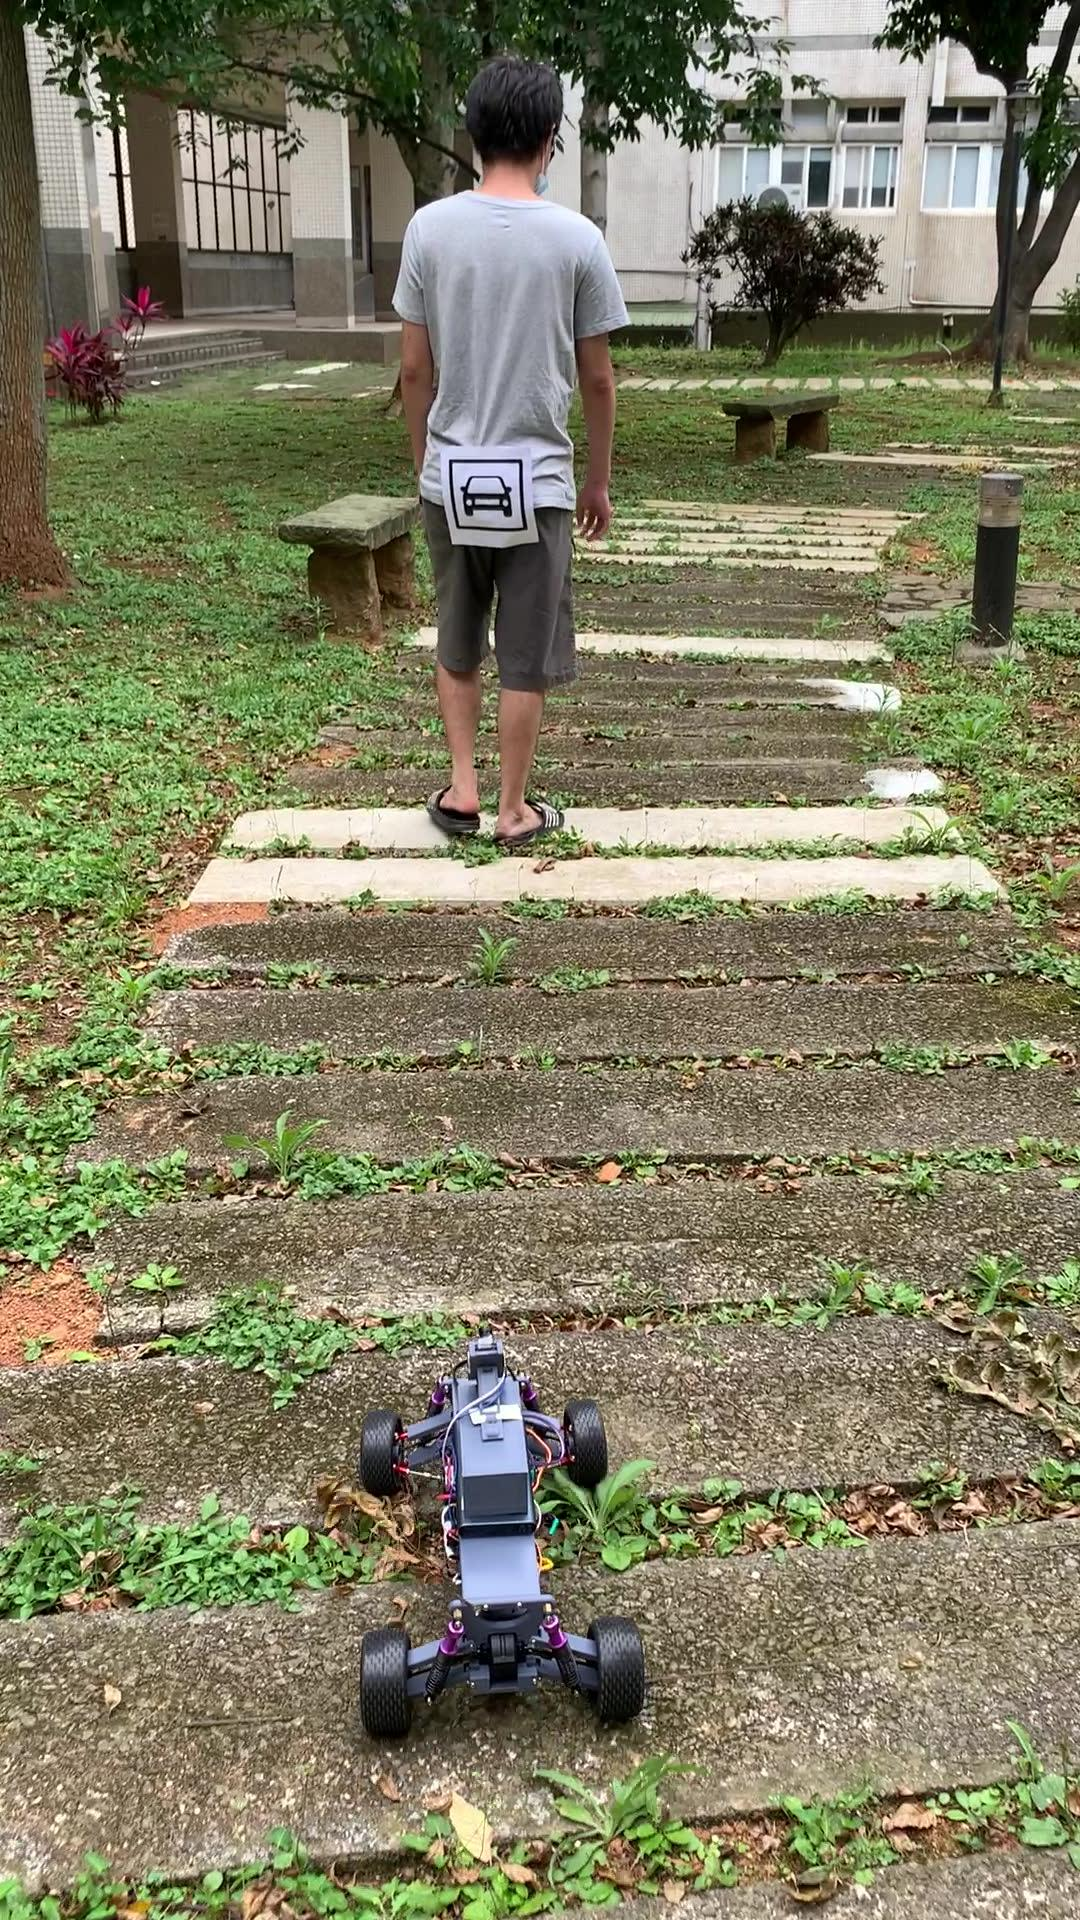car_img: (448, 459, 529, 531)
